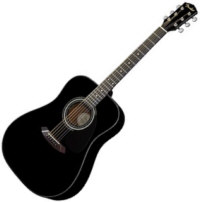guitar: (2, 1, 198, 201)
